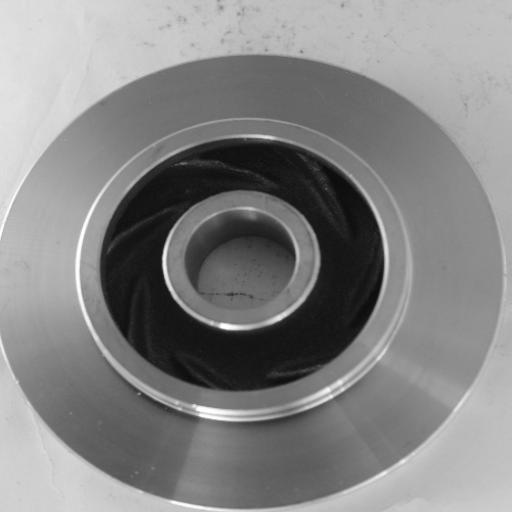polished_casting: (0, 50, 509, 509)
